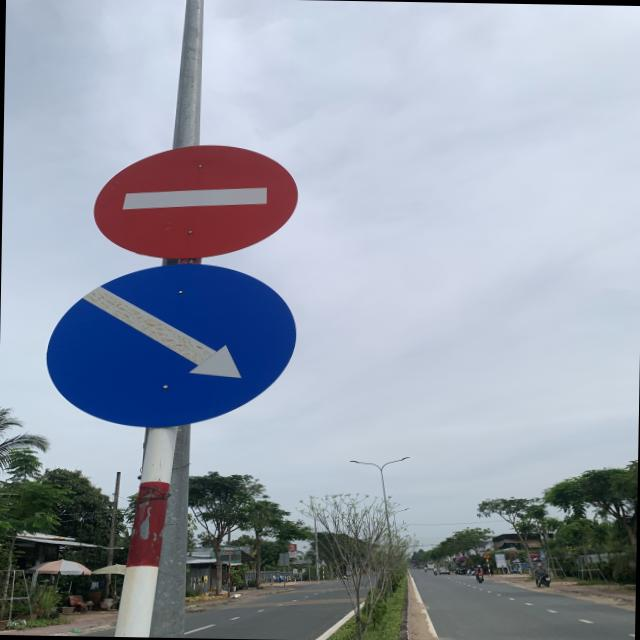Cam_Di_Nguoc_Chieu: (88, 140, 299, 261)
Chi_Huong_Di_Phai: (44, 261, 301, 432)
